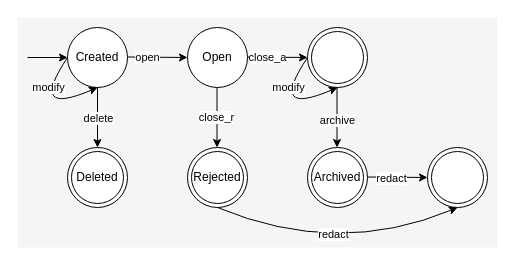
Some shapes in this 514 by 264 pixel diagram are drawn without their labels. Each missing label, with the box of its shape:
Accepted: (306, 26, 368, 88)
Redacted: (426, 146, 488, 208)
